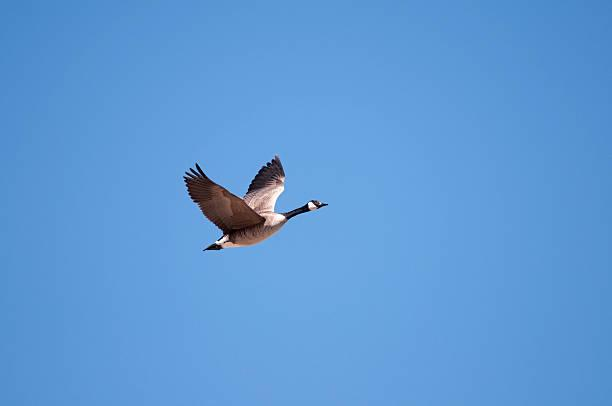Canadian-Goose: (181, 154, 330, 253)
